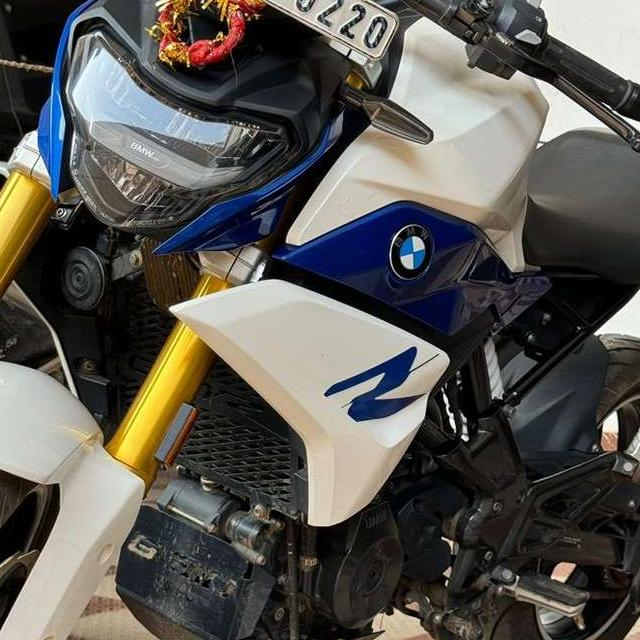Indian_Number_Plate: (270, 0, 399, 59)
